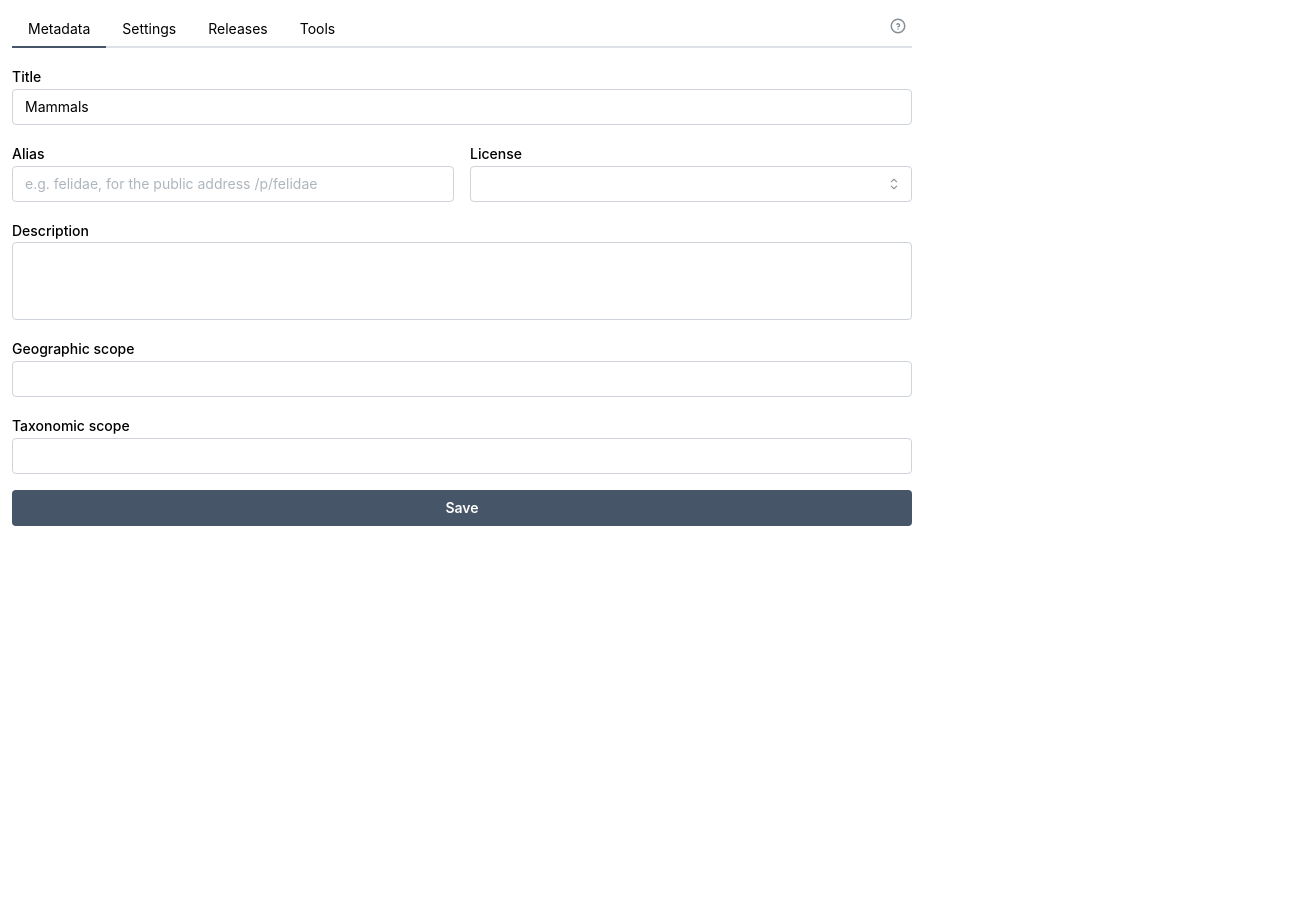
starting a match run while one is already in progress shows a friendly 409 notification
The image size is (1292, 912).
Expected: the field labelled "Title" holds "Mammals", [12, 89, 912, 125]
Click the tab "Tools": (317, 30) [284, 12, 351, 48]
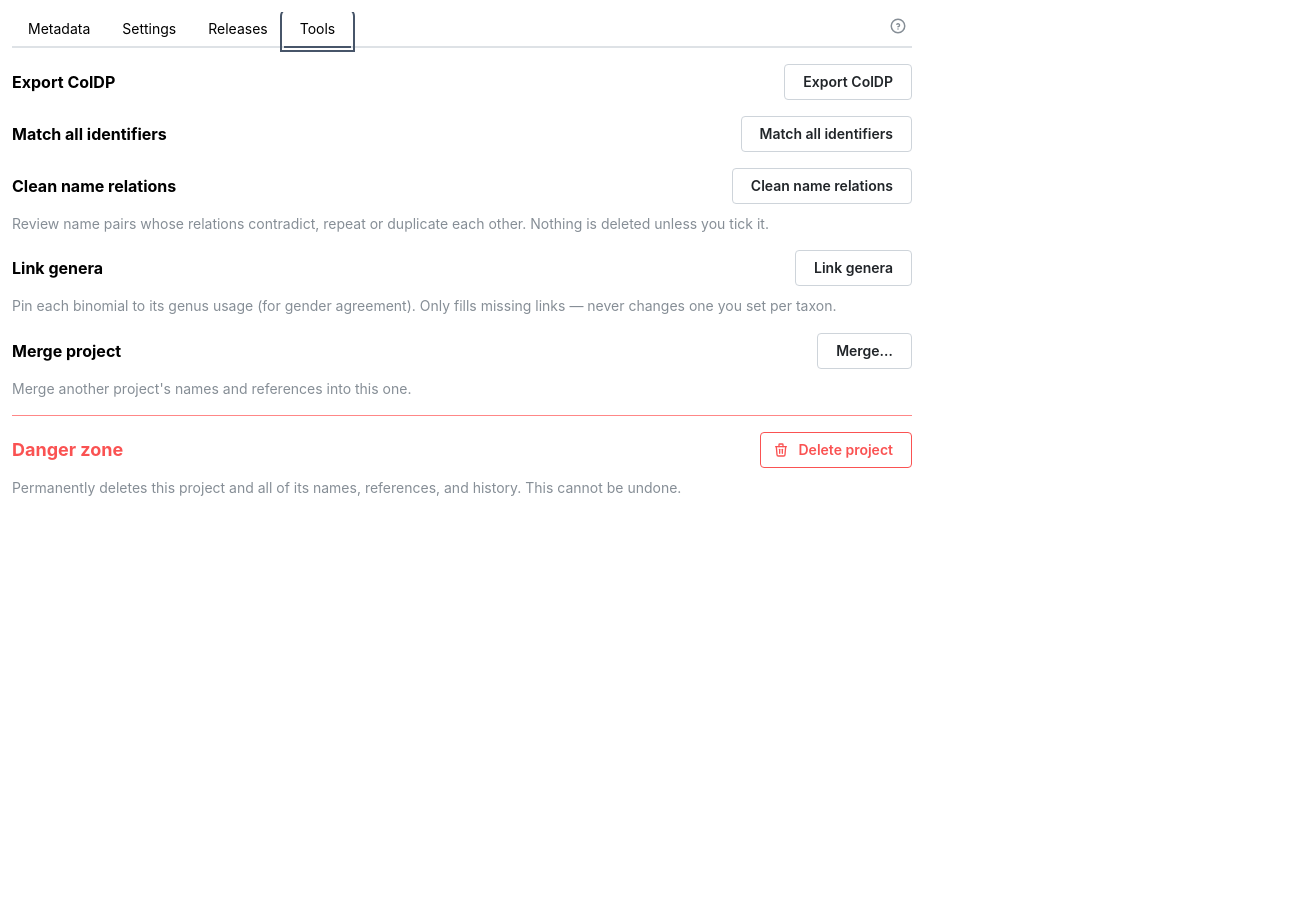
Click the button "Match all identifiers": (826, 134) [740, 116, 912, 152]
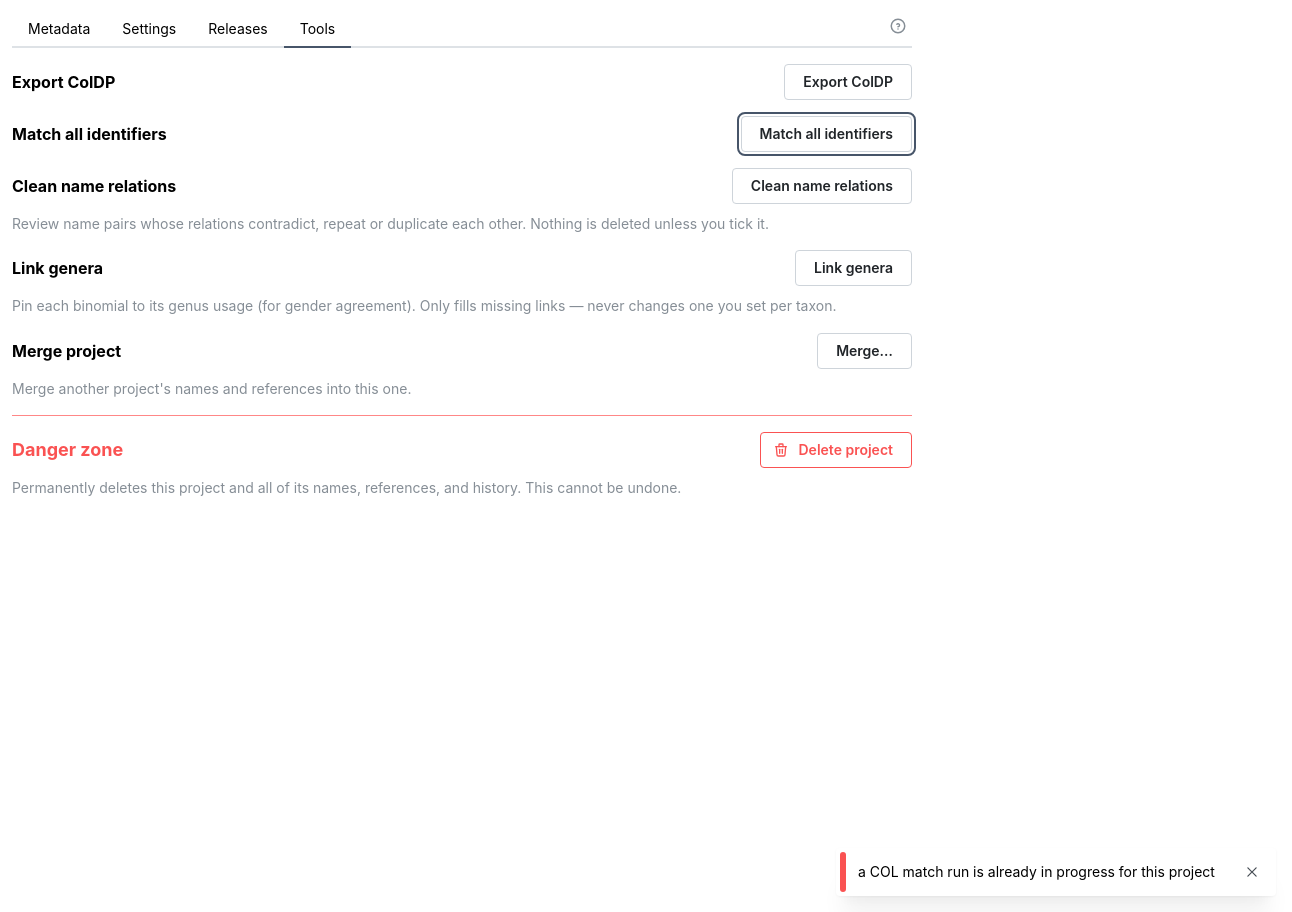
Expected: the text "a COL match run is already in progress for this project" is shown, [858, 862, 1228, 882]
